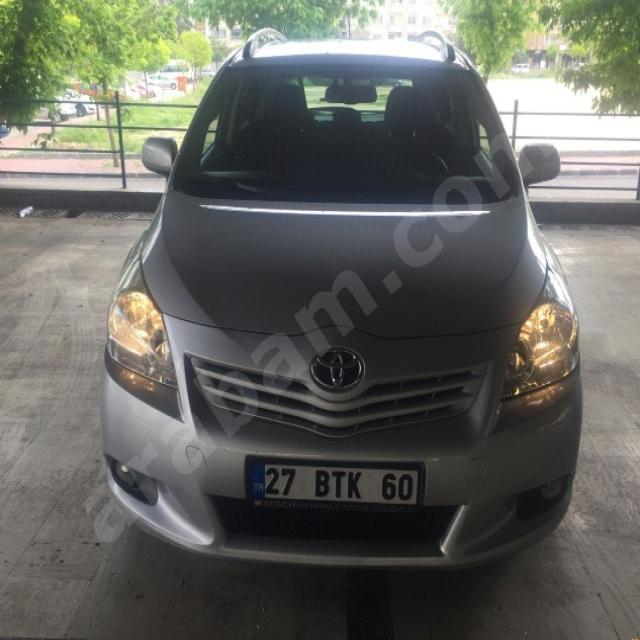license_plate: (247, 462, 418, 504)
